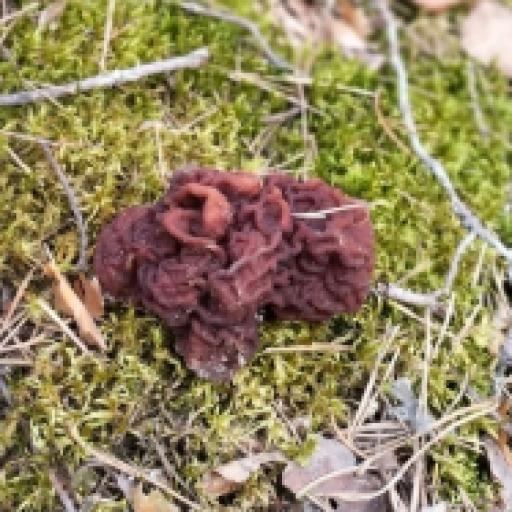mushroom: (110, 141, 386, 385)
